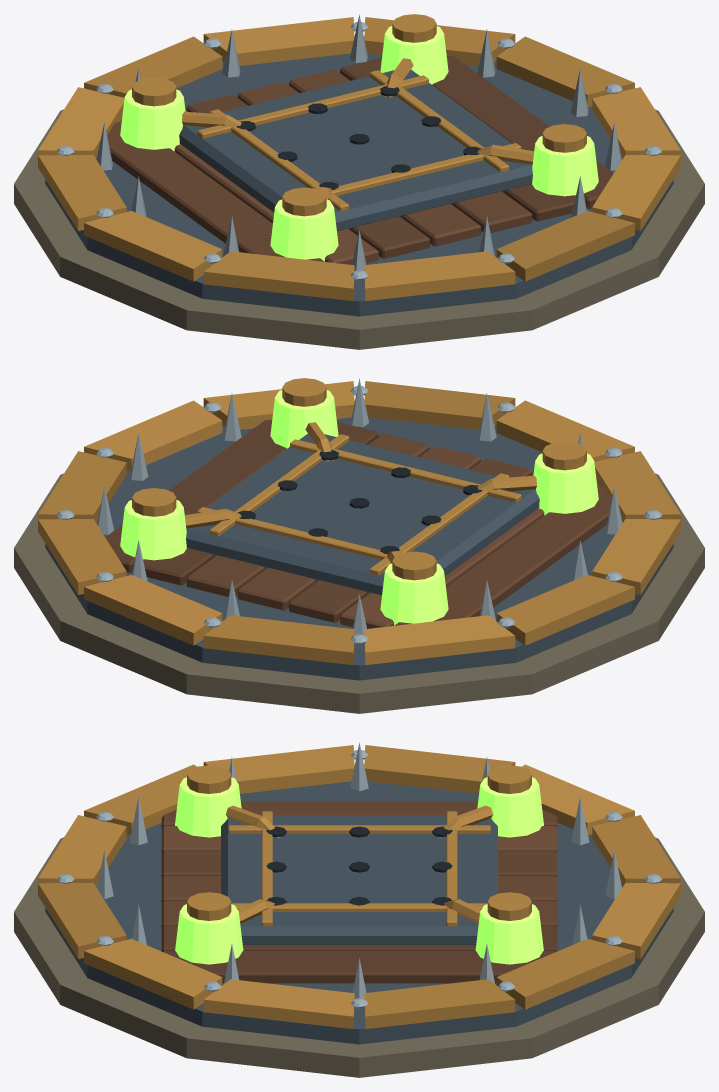
Rendered from trap__toxica__L10.glb.
3 renders of one model, top to bottom at view 1: azimuth 30°, elevation 25°; view 2: azimuth 150°, elevation 25°; view 3: azimuth 270°, elevation 25°, orthographic.
Parts seen in each view (by area): view 1: structure, weapon; view 2: structure, weapon; view 3: structure, weapon.
Part boxes in pixels (x1,y1,x2,y2): structure: (14,17,704,349); weapon: (96,14,621,270); structure: (14,381,704,713); weapon: (97,378,622,634); structure: (14,745,704,1077); weapon: (97,742,621,998).
Size of the model in its own units: 0.8228 by 0.1232 by 0.8228.
